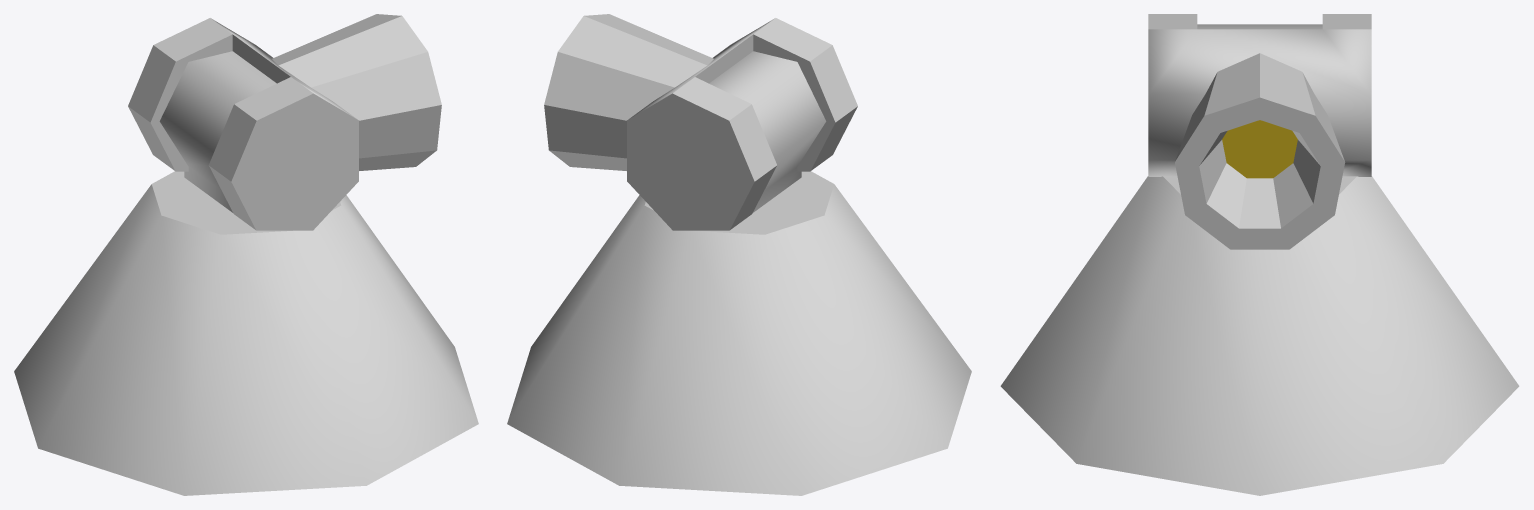
The model's file is spotlight.fbx.
The picture shows the model from 3 angles, left to right: view 1: azimuth 30°, elevation 25°; view 2: azimuth 150°, elevation 25°; view 3: azimuth 270°, elevation 25°; orthographic projection. The views are drawn at different scales.
Visible parts, largest first — view 1: spotlight_stand, spotlight_light; view 2: spotlight_stand, spotlight_light; view 3: spotlight_stand, spotlight_light.
Boxes of the visible parts, x1,y1,x2,y2 form: spotlight_stand: (14, 51, 478, 495); spotlight_light: (128, 14, 441, 230); spotlight_stand: (507, 51, 971, 495); spotlight_light: (544, 14, 857, 230); spotlight_stand: (1000, 24, 1519, 495); spotlight_light: (1148, 14, 1371, 249).
Size of the model in its own units: 75.41 by 59.44 by 75.41.
